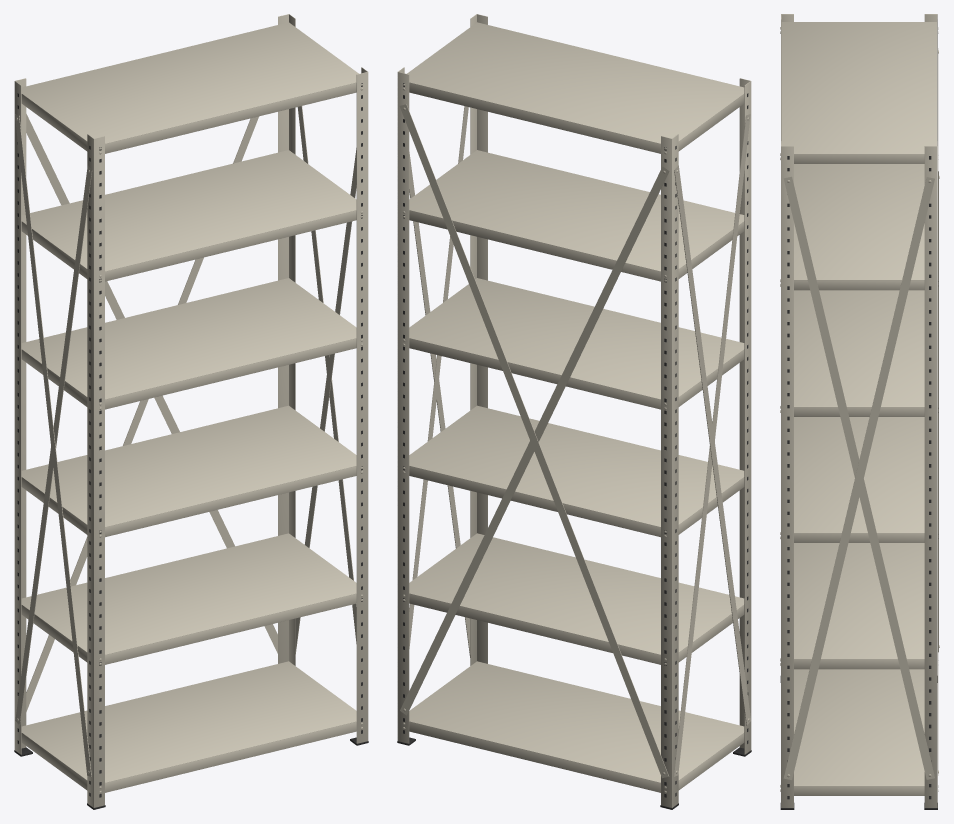
The model's file is Kit_SteelShelving_Beige.fbx.
3 views of the same model, side by side, from view 1: azimuth 30°, elevation 25°; view 2: azimuth 150°, elevation 25°; view 3: azimuth 270°, elevation 25° (orthographic).
Visible parts, largest first — view 1: Kit_SteelShelving_LOD0; view 2: Kit_SteelShelving_LOD0; view 3: Kit_SteelShelving_LOD0.
Boxes of the visible parts, x1=… form: Kit_SteelShelving_LOD0: x1=14, y1=14, x2=368, y2=809; Kit_SteelShelving_LOD0: x1=397, y1=14, x2=751, y2=809; Kit_SteelShelving_LOD0: x1=780, y1=14, x2=939, y2=809.
Size of what is drawn, in the model's own units: 0.9251 by 2.13 by 0.4644.
